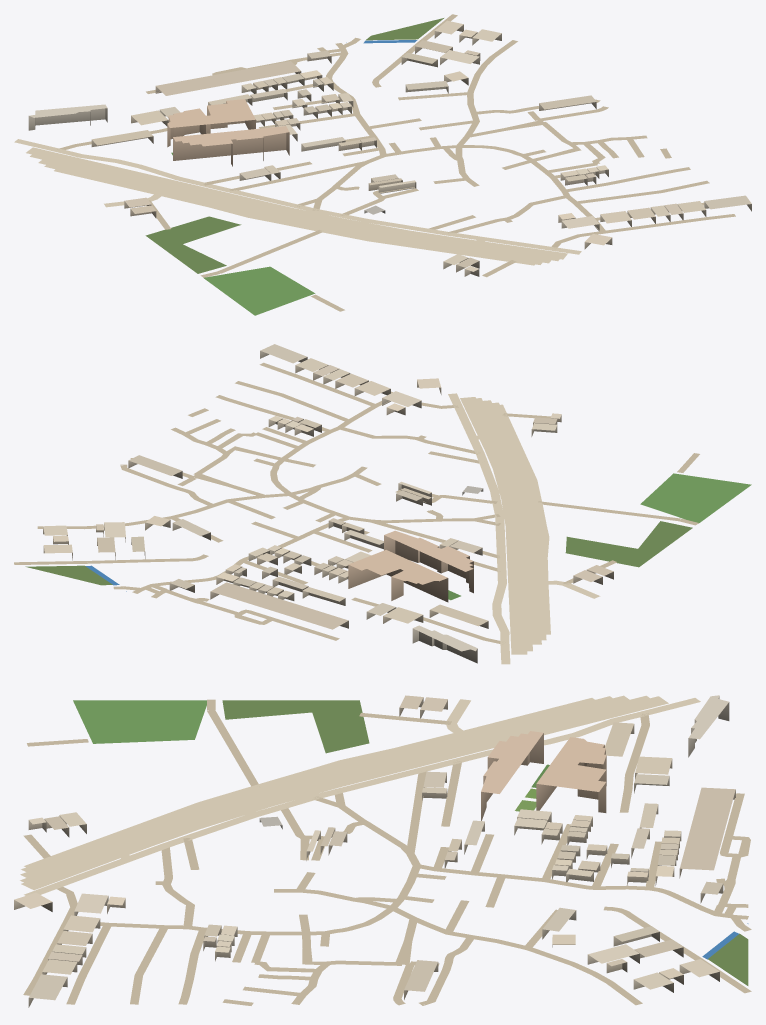
The picture shows the model from 3 angles, top to bottom: view 1: azimuth 30°, elevation 25°; view 2: azimuth 150°, elevation 25°; view 3: azimuth 270°, elevation 25°; orthographic projection. The views are drawn at different scales.
Visible parts, largest first — view 1: ground, building; view 2: ground, building; view 3: ground, building.
Boxes of the visible parts, box(x1,y1,x2,y2) form: ground: box(14, 14, 735, 315); building: box(28, 20, 751, 276); ground: box(14, 362, 751, 664); building: box(43, 344, 613, 663); ground: box(20, 695, 751, 1005); building: box(14, 695, 735, 1007).
Bounding box in the file's own units: 514 × 24 × 512.
